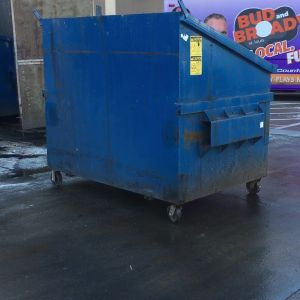Dumpster: (32, 4, 279, 225)
